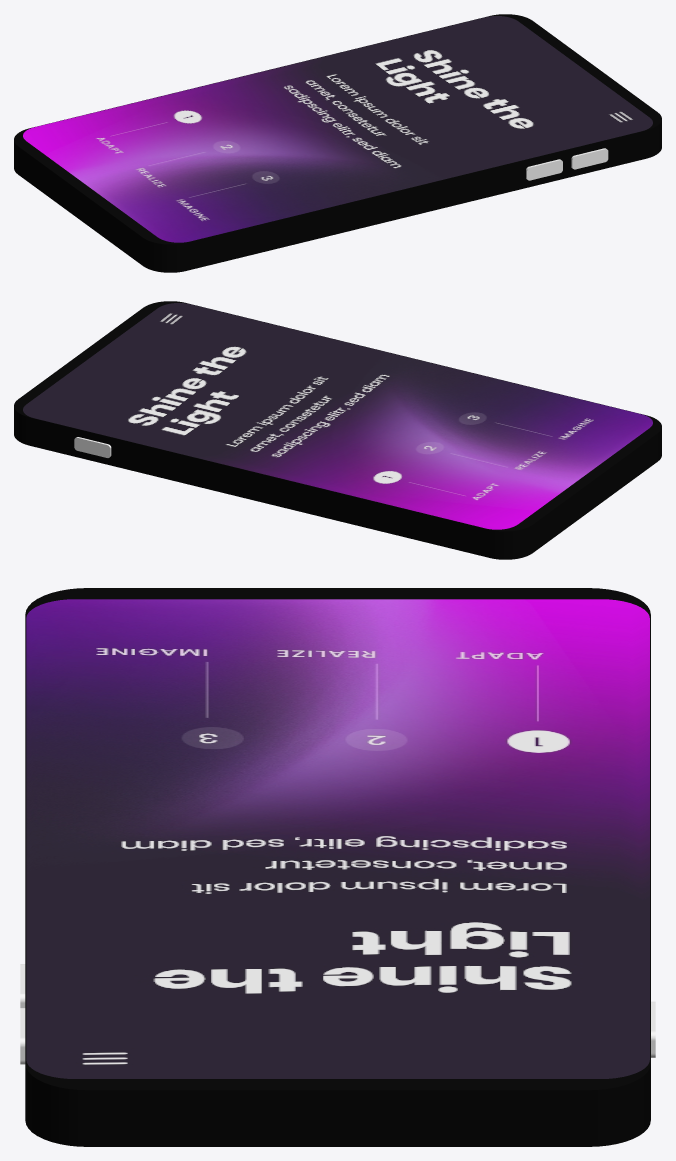
Rendered from phone.gltf.
3 views of the same model, one above another, from view 1: azimuth 30°, elevation 25°; view 2: azimuth 150°, elevation 25°; view 3: azimuth 270°, elevation 25° (orthographic). The views are drawn at different scales.
Parts seen in each view (by area): view 1: Phone; view 2: Phone; view 3: Phone.
Part boxes in pixels (x1,y1,x2,y2): Phone: (14,14,661,272); Phone: (14,301,661,559); Phone: (20,588,655,1146).
Bounding box in the file's own units: 3.8 × 0.2 × 2.03.
5 materials, 1 textured.
